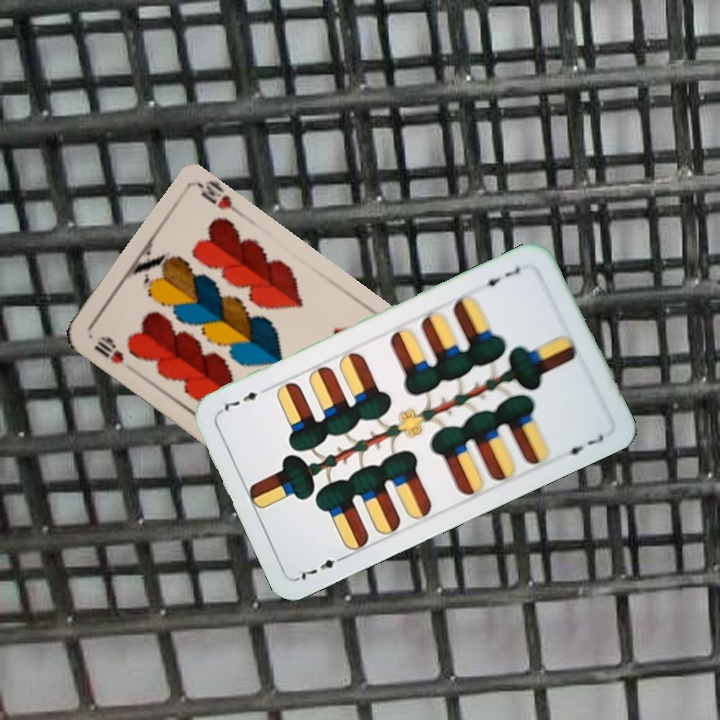E7: (293, 551, 349, 583), (477, 263, 524, 289)
H10: (90, 331, 127, 367)
